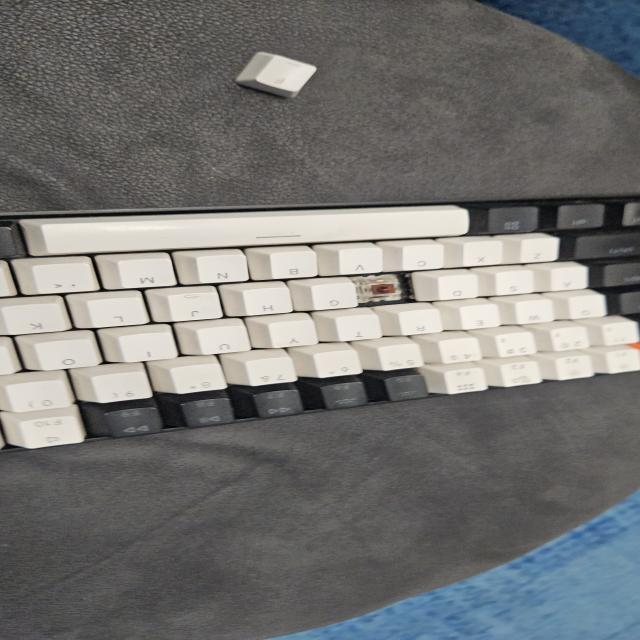C: (364, 275, 405, 300)
